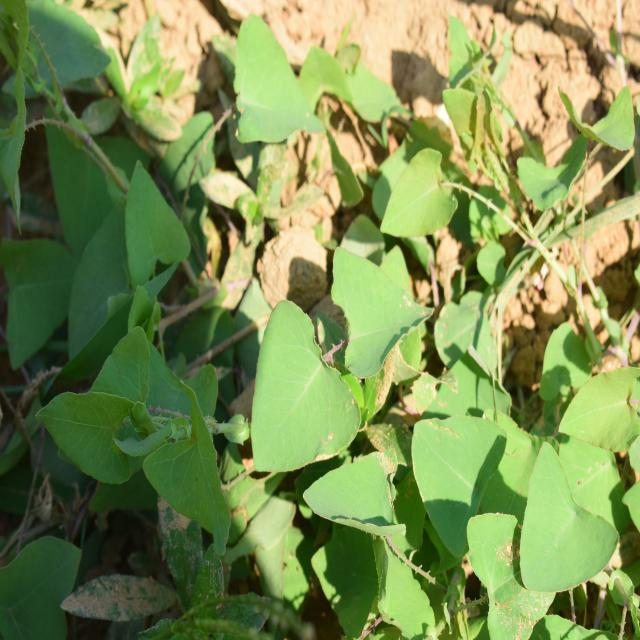Asiatic_Smartweed: (420, 359, 628, 619), (45, 302, 242, 552), (253, 230, 432, 499)
